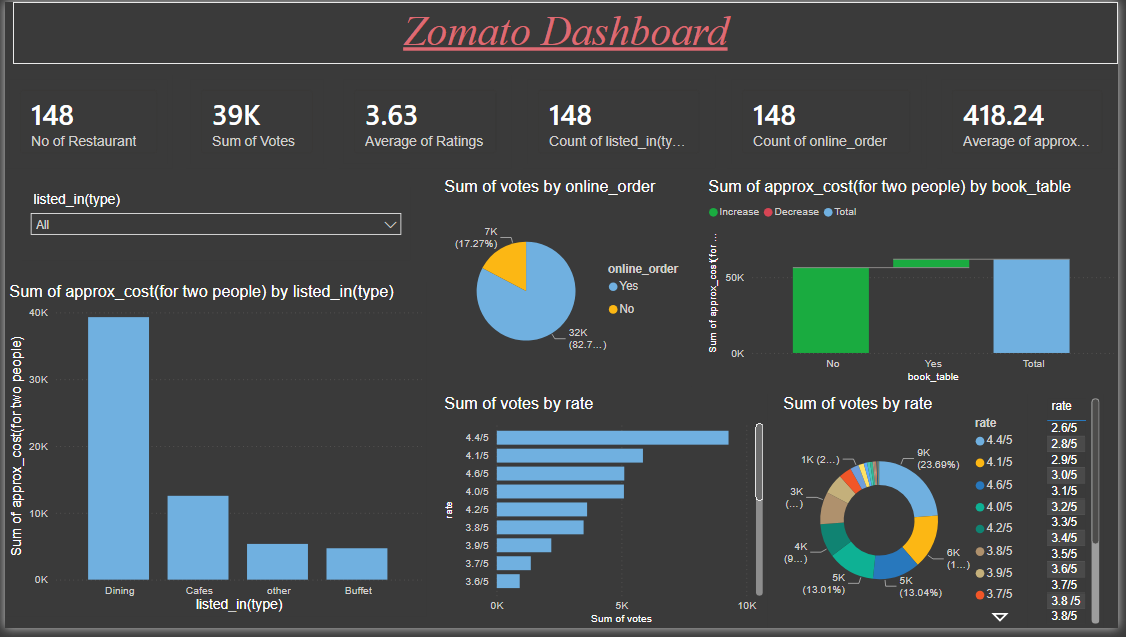

The dashboard page shown, as its layout file describes it:
{"tool":"powerbi","page":{"name":"Page 2","canvas":[1280,720],"ordinal":1},"visuals":[{"type":"textbox","box":[9.5,0,1269.8,71.4],"z":0},{"type":"cardVisual","fields":{"Data":["Zomato data  (1).No of Restaurant"]},"box":[0,84.1,192.1,107.9],"z":1},{"type":"cardVisual","fields":{"Data":["Zomato data  (1).no of Votes"]},"box":[207.9,84.1,163.5,107.9],"z":2},{"type":"cardVisual","fields":{"Data":["Avg(Zomato data  (1).Rating Value)"]},"box":[384.1,84.1,198.4,107.9],"z":4},{"type":"cardVisual","fields":{"Data":["CountNonNull(Zomato data  (1).listed_in(type))"]},"box":[595.2,84.1,220.6,107.9],"z":5},{"type":"cardVisual","fields":{"Data":["CountNonNull(Zomato data  (1).online_order)"]},"box":[830.2,84.1,228.6,107.9],"z":6},{"type":"cardVisual","fields":{"Data":["Avg(Zomato data  (1).approx_cost(for two people))"]},"box":[1071.4,84.1,207.9,107.9],"z":7},{"type":"slicer","fields":{"Values":["Zomato data  (1).listed_in(type)"]},"box":[19,212.7,446,84.1],"z":8},{"type":"clusteredColumnChart","fields":{"Y":["Sum(Zomato data  (1).approx_cost(for two people))"],"Category":["Zomato data  (1).listed_in(type)"]},"box":[0,322.2,484.1,384.1],"z":9},{"type":"pieChart","fields":{"Category":["Zomato data  (1).online_order"],"Y":["Sum(Zomato data  (1).votes)"]},"box":[500,201.6,288.9,241.3],"z":10},{"type":"clusteredBarChart","fields":{"Category":["Zomato data  (1).rate"],"Y":["Sum(Zomato data  (1).votes)"]},"box":[500,450.8,376.2,269.8],"z":11},{"type":"waterfallChart","fields":{"Category":["Zomato data  (1).book_table"],"Y":["Sum(Zomato data  (1).approx_cost(for two people))"]},"box":[803.2,201.6,476.2,241.3],"z":12},{"type":"donutChart","fields":{"Category":["Zomato data  (1).rate"],"Y":["Sum(Zomato data  (1).votes)"]},"box":[889.2,450.8,286.2,269.2],"z":14},{"type":"tableEx","fields":{"Values":["Zomato data  (1).rate"]},"box":[1192.3,450.8,70.8,269.2],"z":15}]}

Visuals, with their boxes in screenshot pixels (x1, y1, x2, y2), scaled from the page's 1280x720 canvas onto the 1126x637 screenshot:
textbox: bbox(8, 0, 1125, 63)
cardVisual - Zomato data  (1).No of Restaurant: bbox(0, 74, 169, 170)
cardVisual - Zomato data  (1).no of Votes: bbox(183, 74, 327, 170)
cardVisual - Avg(Zomato data  (1).Rating Value): bbox(338, 74, 512, 170)
cardVisual - CountNonNull(Zomato data  (1).listed_in(type)): bbox(524, 74, 718, 170)
cardVisual - CountNonNull(Zomato data  (1).online_order): bbox(730, 74, 931, 170)
cardVisual - Avg(Zomato data  (1).approx_cost(for two people)): bbox(942, 74, 1125, 170)
slicer - Zomato data  (1).listed_in(type): bbox(17, 188, 409, 263)
clusteredColumnChart - Sum(Zomato data  (1).approx_cost(for two people)) x Zomato data  (1).listed_in(type): bbox(0, 285, 426, 625)
pieChart - Zomato data  (1).online_order x Sum(Zomato data  (1).votes): bbox(440, 178, 694, 392)
clusteredBarChart - Zomato data  (1).rate x Sum(Zomato data  (1).votes): bbox(440, 399, 771, 636)
waterfallChart - Zomato data  (1).book_table x Sum(Zomato data  (1).approx_cost(for two people)): bbox(707, 178, 1125, 392)
donutChart - Zomato data  (1).rate x Sum(Zomato data  (1).votes): bbox(782, 399, 1034, 636)
tableEx - Zomato data  (1).rate: bbox(1049, 399, 1111, 636)
